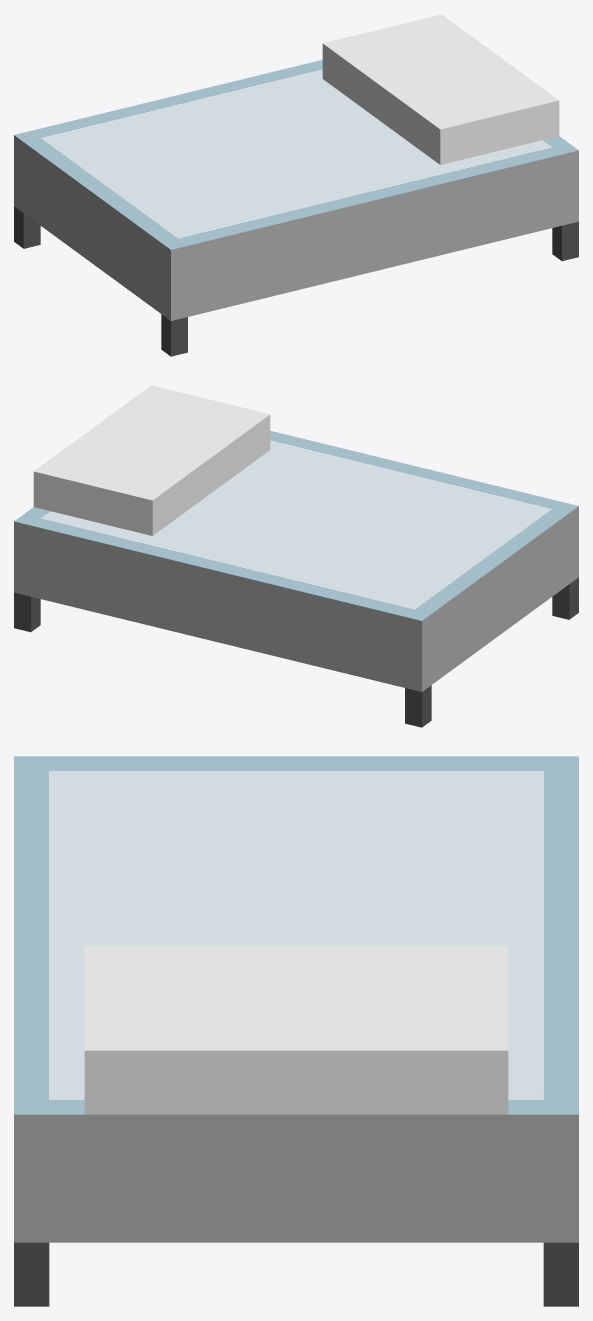
File: bed.gltf
3 renders of one model, top to bottom at view 1: azimuth 30°, elevation 25°; view 2: azimuth 150°, elevation 25°; view 3: azimuth 270°, elevation 25°, orthographic. The views are drawn at different scales.
Parts seen in each view (by area): view 1: cube (×5); view 2: cube (×5); view 3: cube (×4).
Boxes of the visible parts, left/top/right/bottom form: cube (×5): left=14, top=14, right=578, bottom=356; cube (×5): left=14, top=385, right=578, bottom=727; cube (×4): left=14, top=756, right=578, bottom=1306.
Size of the model in its own units: 1.5 by 0.5 by 1.
1 material, 1 textured.
